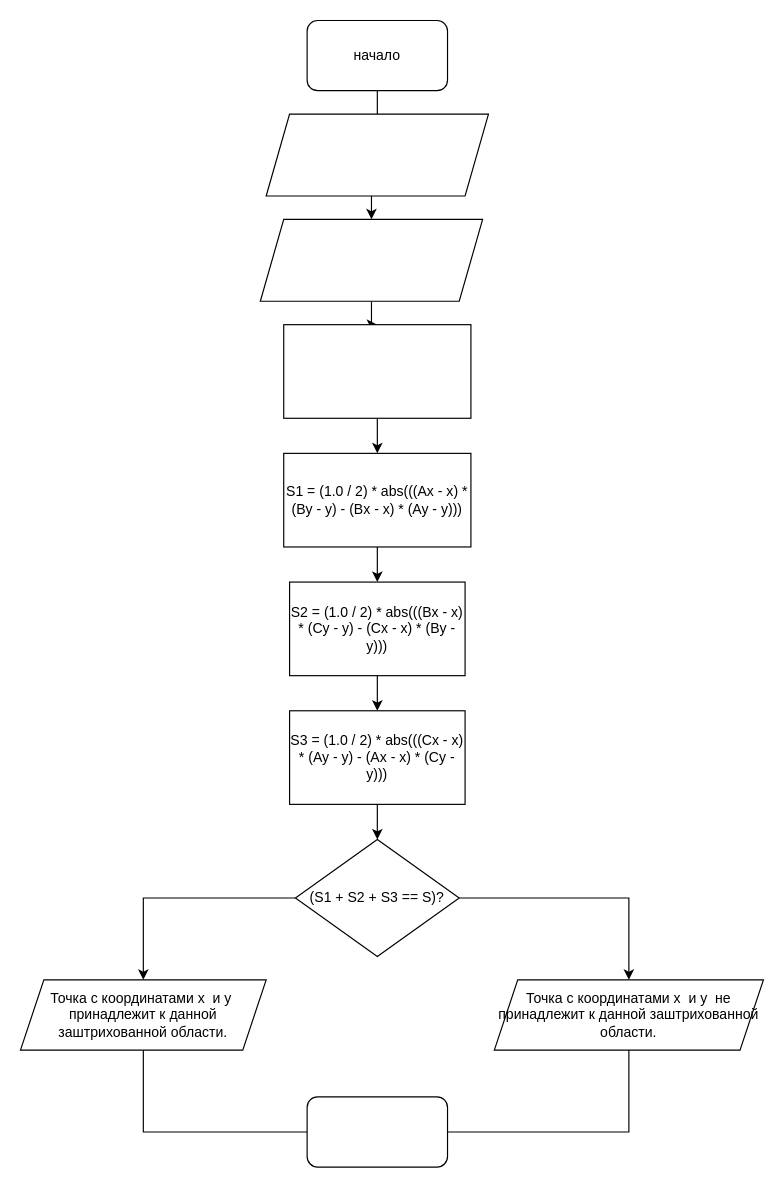
The diagram is 784 pixels wide and 1188 high, and some of its shapes have lost their labels. Here are the shapes that lost their labels. From the top down, the centre of each, then its label:
At (x=376, y=154): "int Ax = 2, Ay = 5, Bx = 5, By = 1, Cx = 2, Cy = -4".
At (x=371, y=259): "double x, y; double S, S1, S2, S3".
At (x=377, y=371): "S = (1.0 / 2) * abs(((Bx - Ax) * (Cy - Ay) - (Cx - Ax) * (By - Ay)))".
At (x=377, y=1131): "конец".
